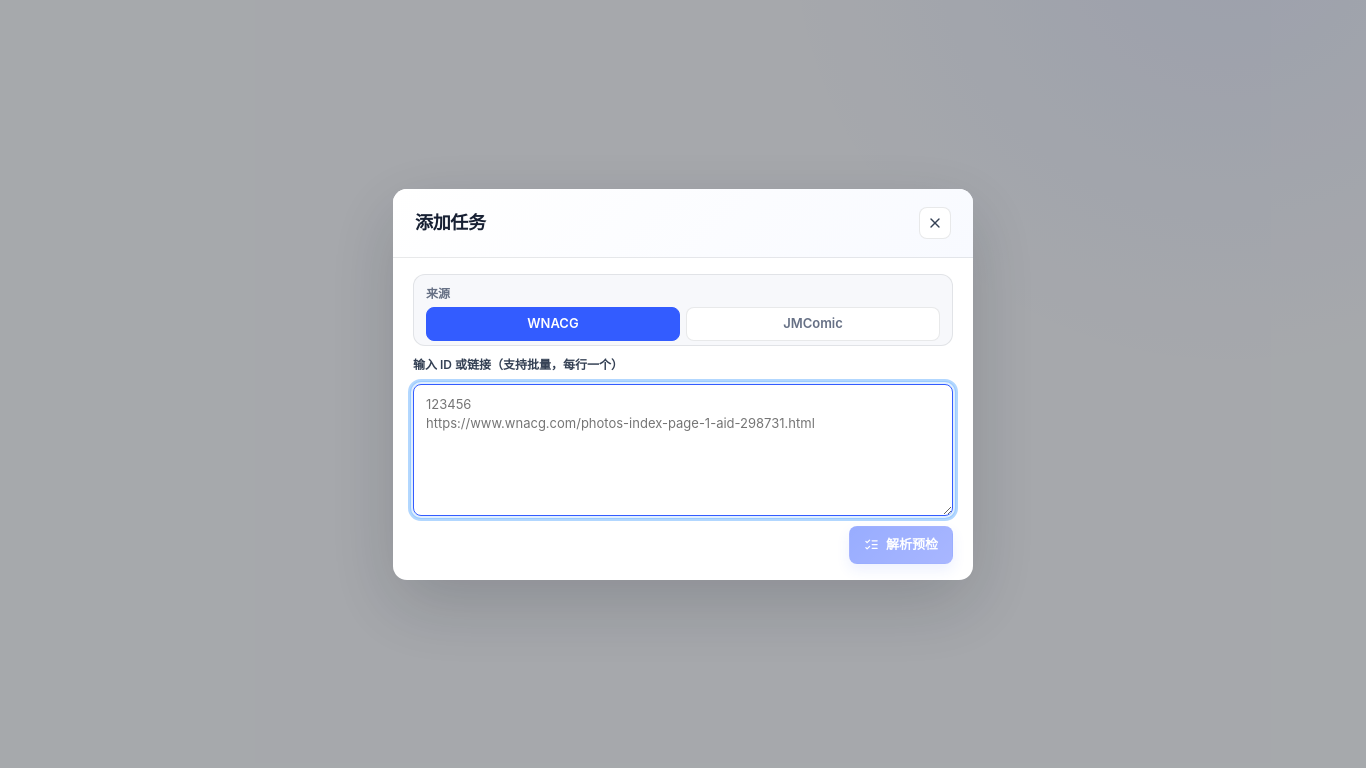
Test case: AddTaskPanel source workflow › shows API error details and keeps actions safe while parsing
This screenshot has width=1366, height=768.
Type "123" into the text box labelled "输入 ID 或链接（支持批量，每行一个）" at [683, 450], box [413,384,953,516]
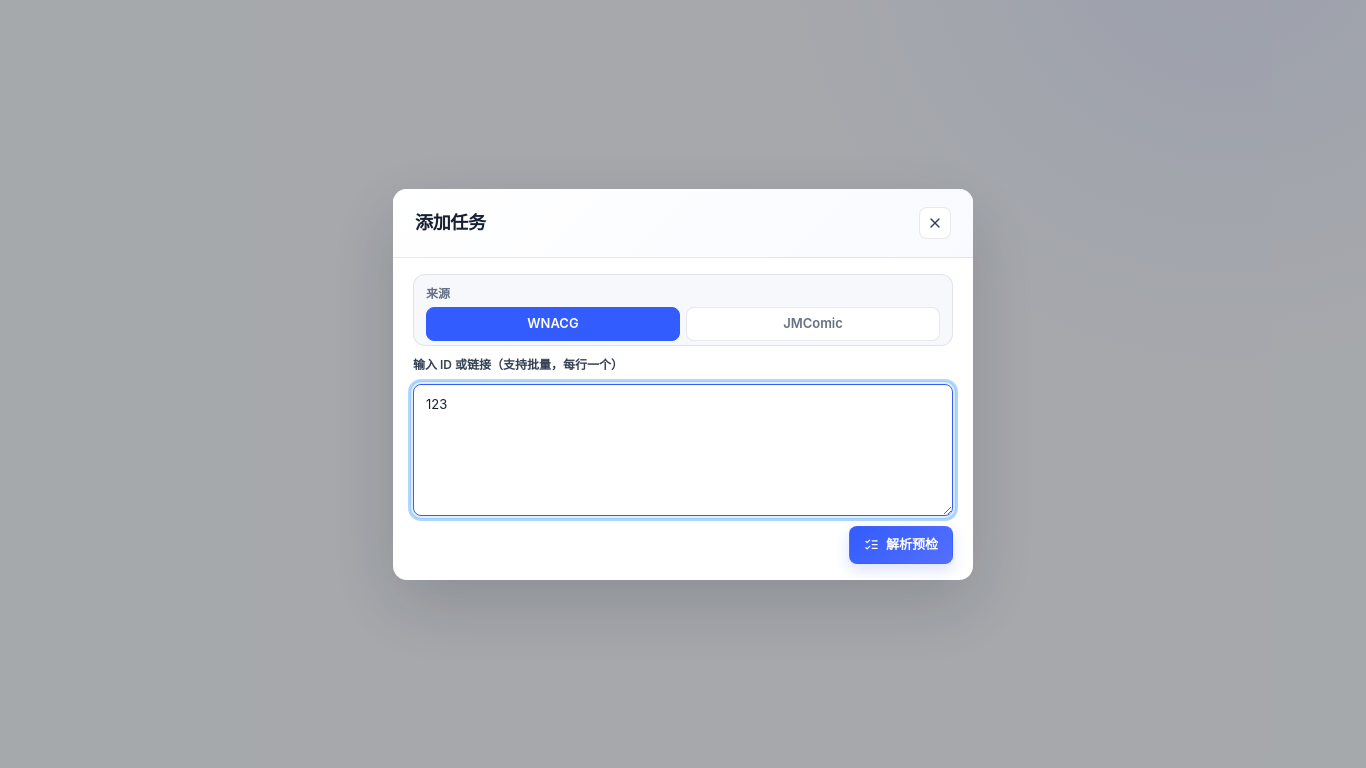
Click the button "解析预检" at [901, 544], box [849,526,953,564]
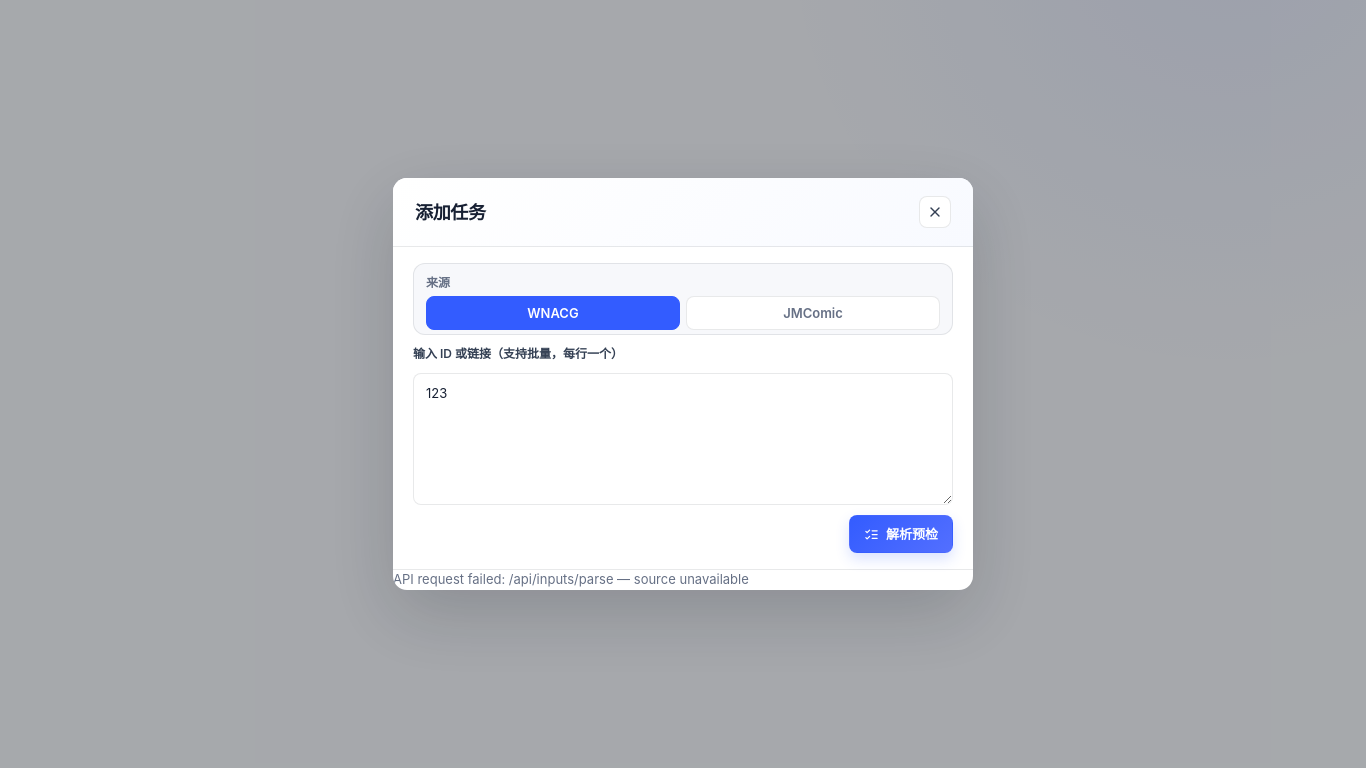
Expected: the text "API request failed: /api/inputs/parse — source unavailable" is shown, [393,571,749,587]
